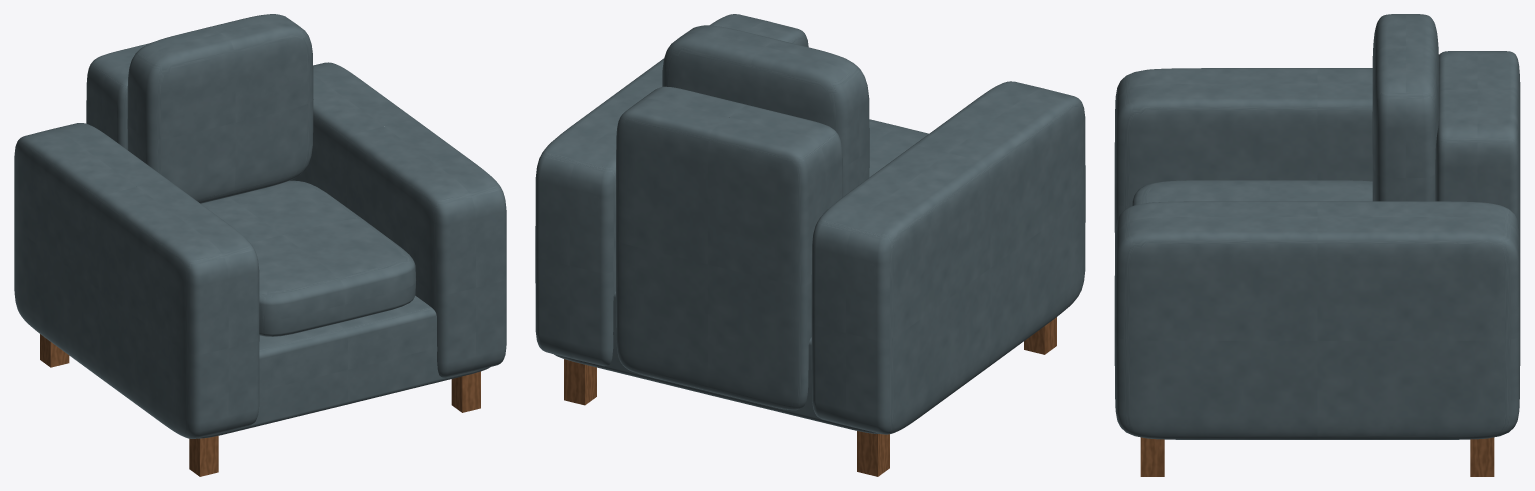
3 renders of one model, left to right at view 1: azimuth 30°, elevation 25°; view 2: azimuth 150°, elevation 25°; view 3: azimuth 270°, elevation 25°, orthographic. The views are drawn at different scales.
Visible parts, largest first — view 1: Armchair; view 2: Armchair; view 3: Armchair.
Boxes of the visible parts, box(x1,y1,x2,y2) form: Armchair: box(14, 14, 506, 476); Armchair: box(535, 14, 1085, 476); Armchair: box(1114, 14, 1520, 476).
Size of the model in its own units: 0.86 by 0.82 by 0.85.
2 materials, 2 textured.
